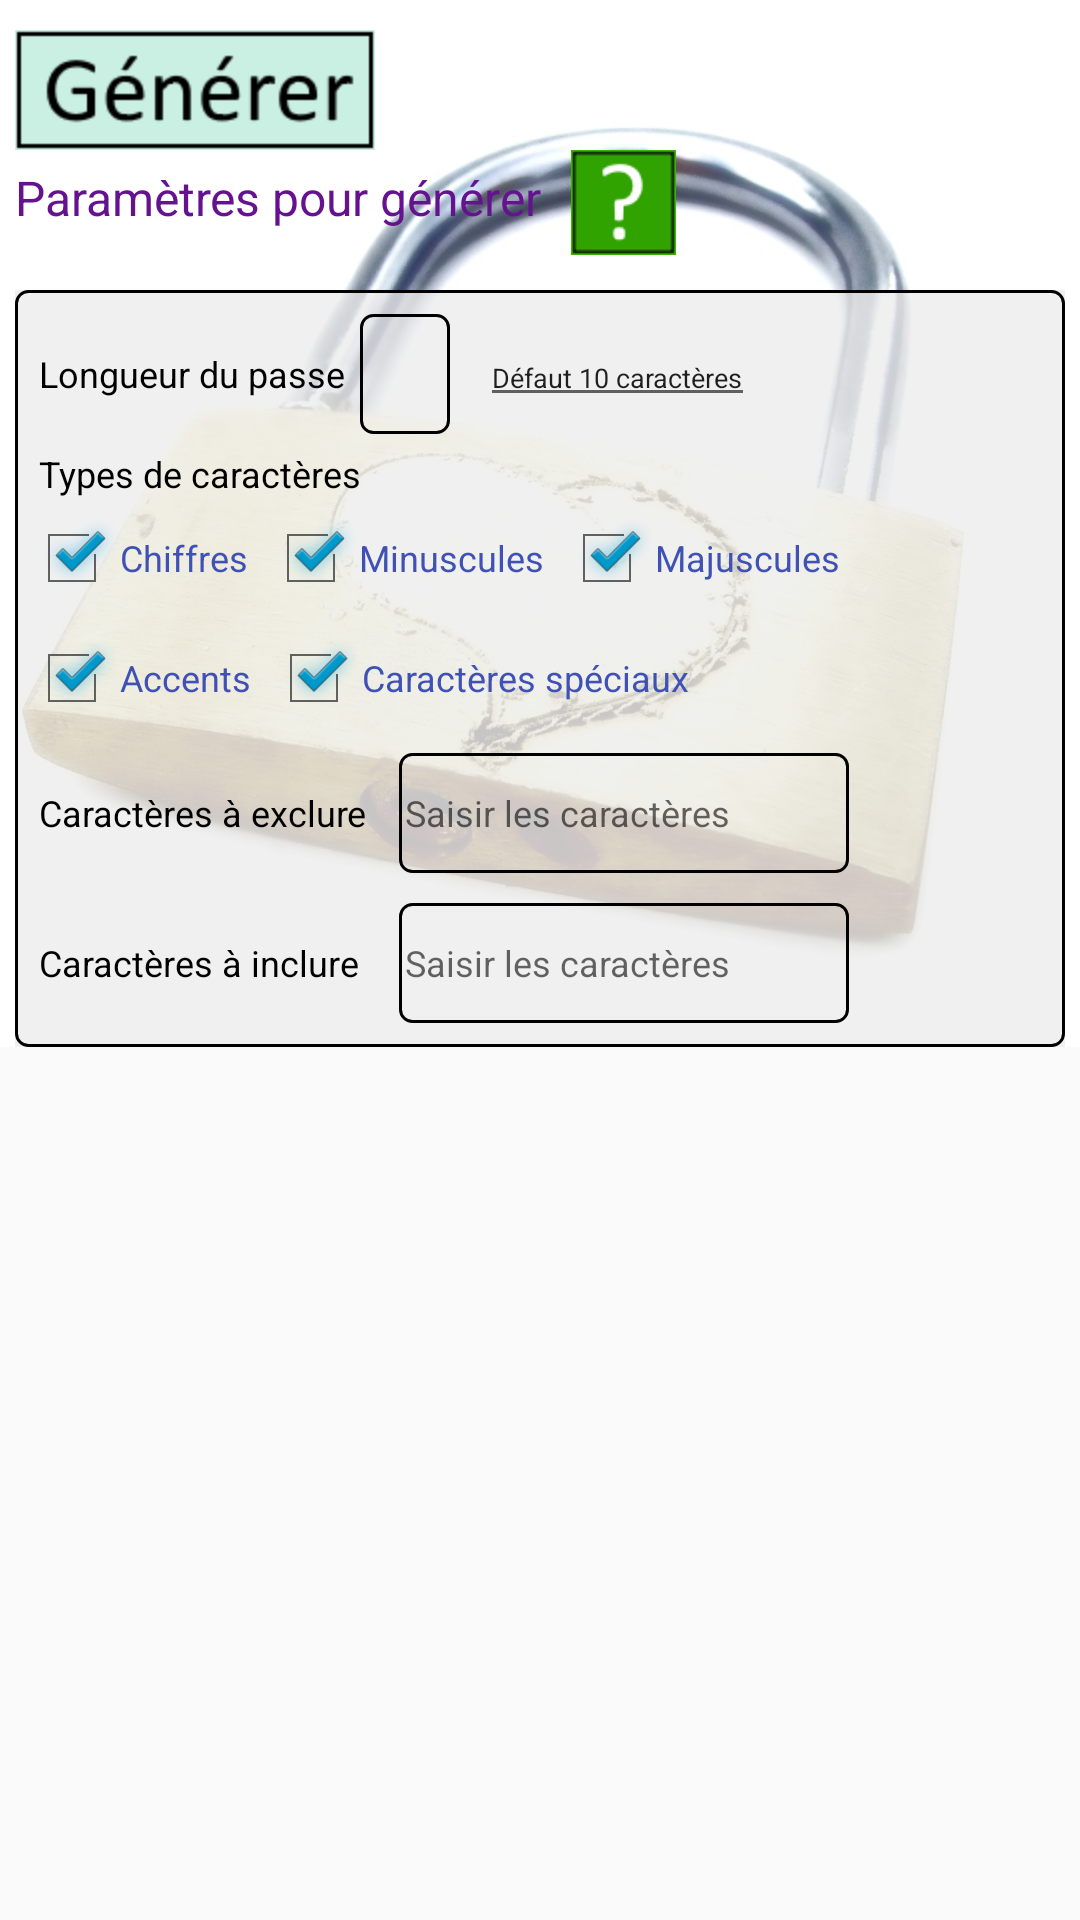

Named icons in this screenshot (1080px x 1920px) and their bounding boxes, [x1=x1, y1=y1, x2=x2, y2=y2]:
Aide: [x1=571, y1=150, x2=676, y2=255]
